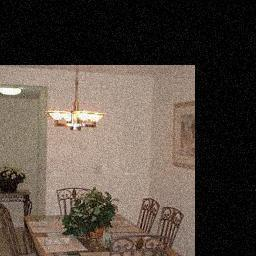Matera: (62, 194, 114, 237), (0, 167, 21, 197)
